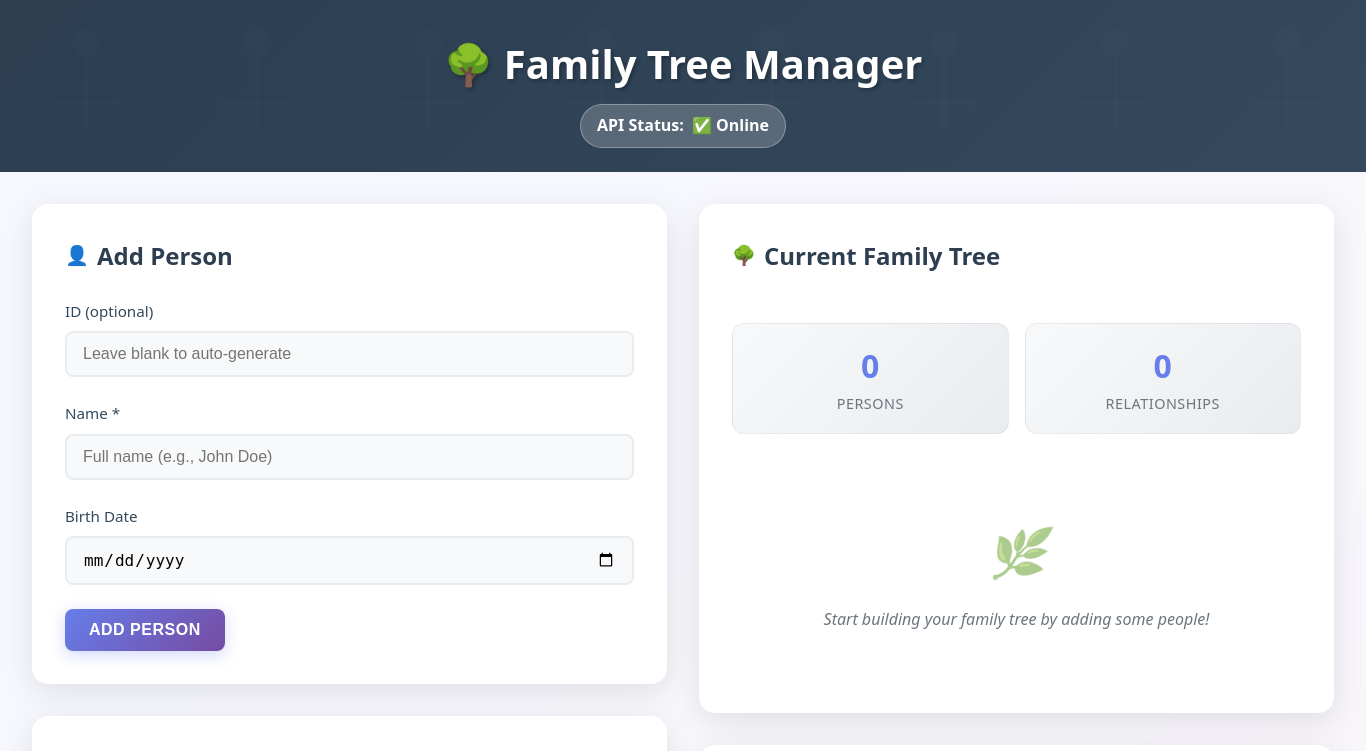
Test: App › prevents adding duplicate person IDs
The image size is (1366, 751).
Expected: the text "✅ Online" is shown, [692,113,769,139]
# Add first person
Type "duplicate-id" into the field labelled "ID (optional)". click: (350, 354)
box: [65,331,634,377]
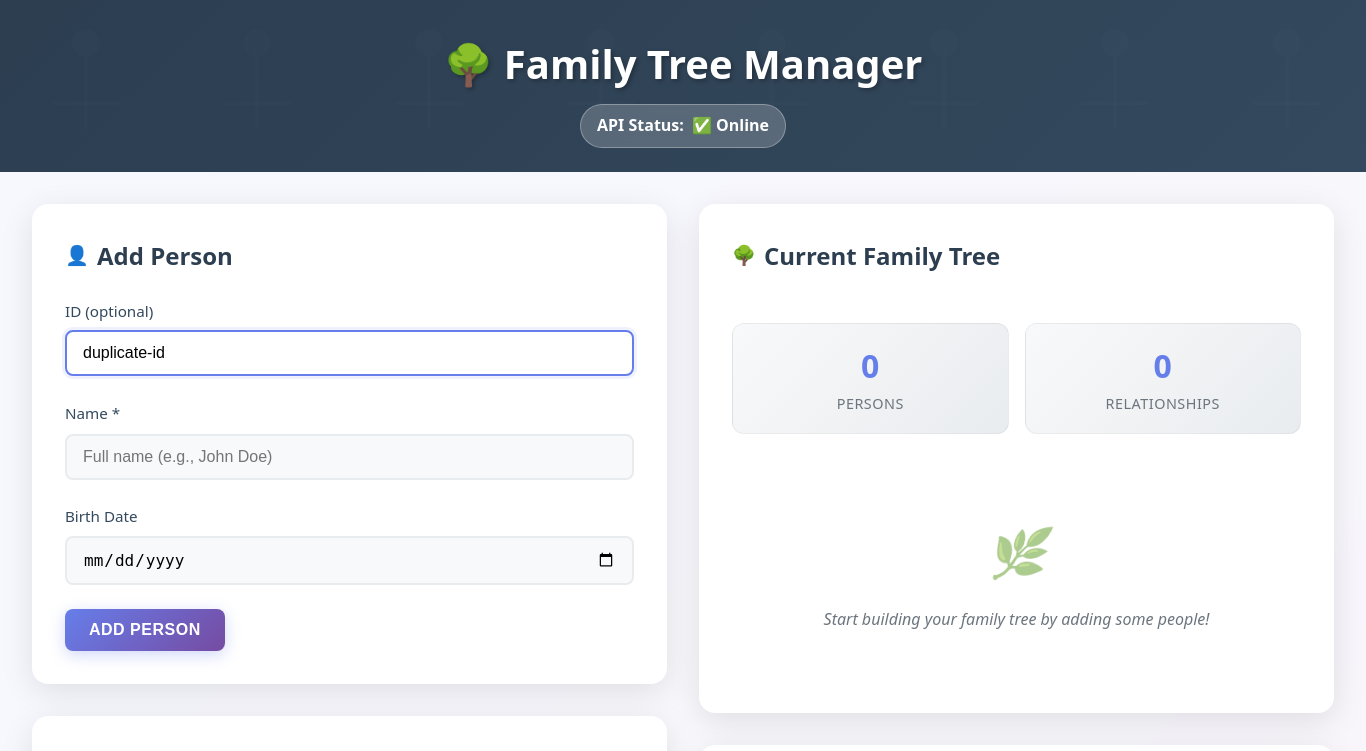
Type "First Person" into the field labelled "Name *". click: (350, 457)
box: [65,434,634,480]
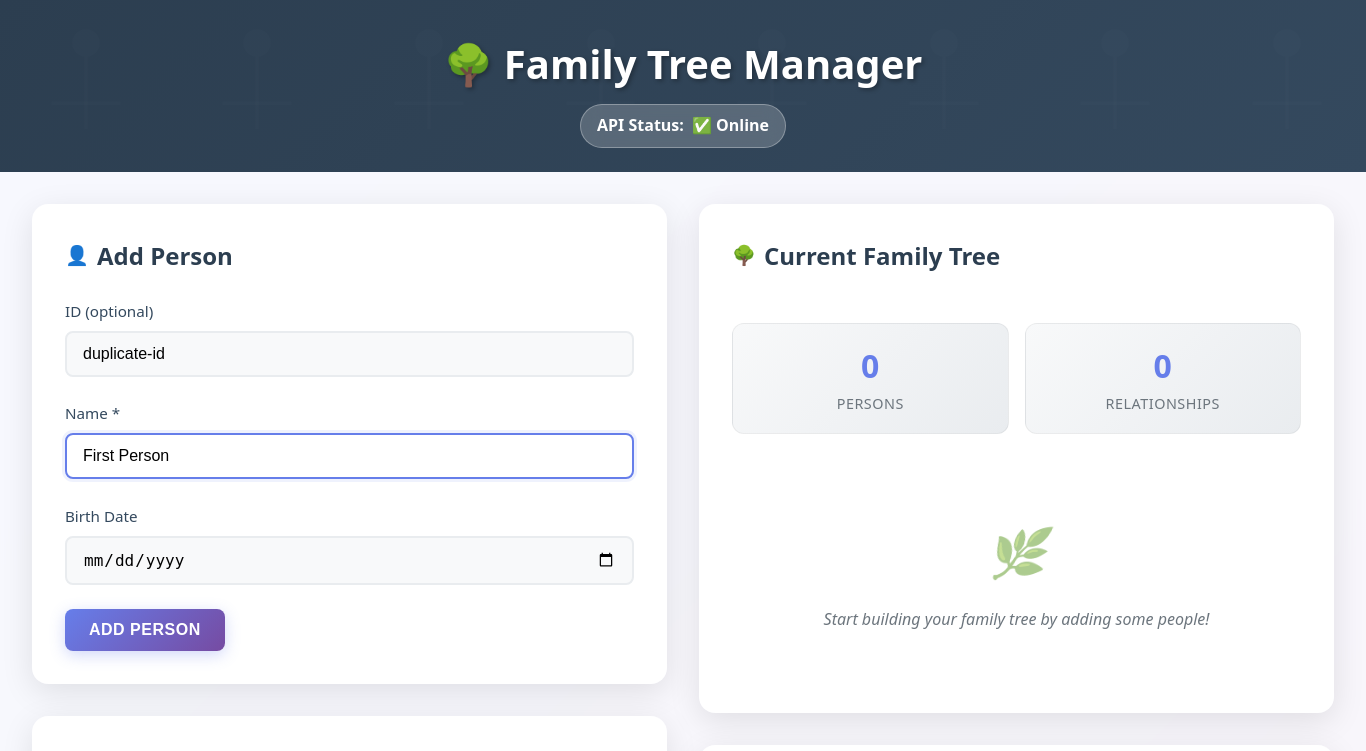
Click the button "Add Person". click: (145, 630)
box: [65,609,225,651]
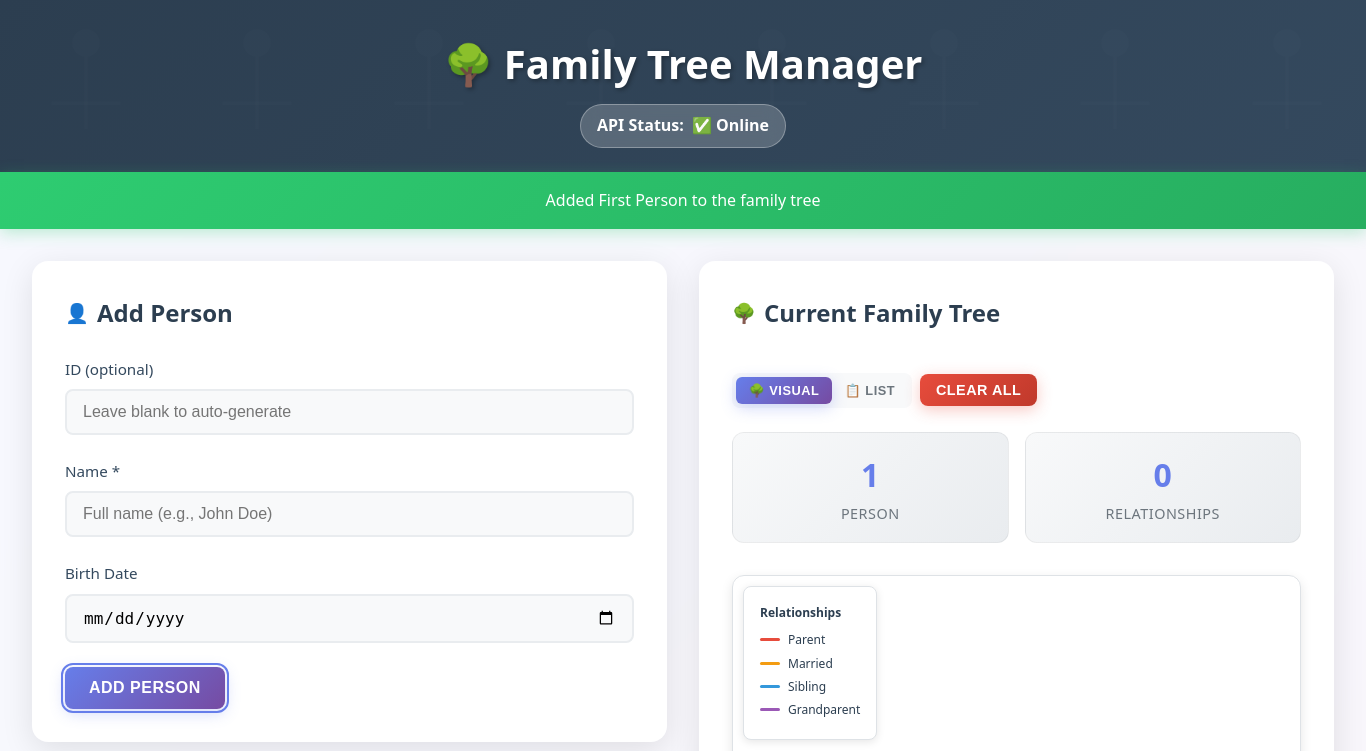
# Try to add person with same ID
Type "duplicate-id" into the field labelled "ID (optional)". click: (350, 412)
box: [65,389,634,435]
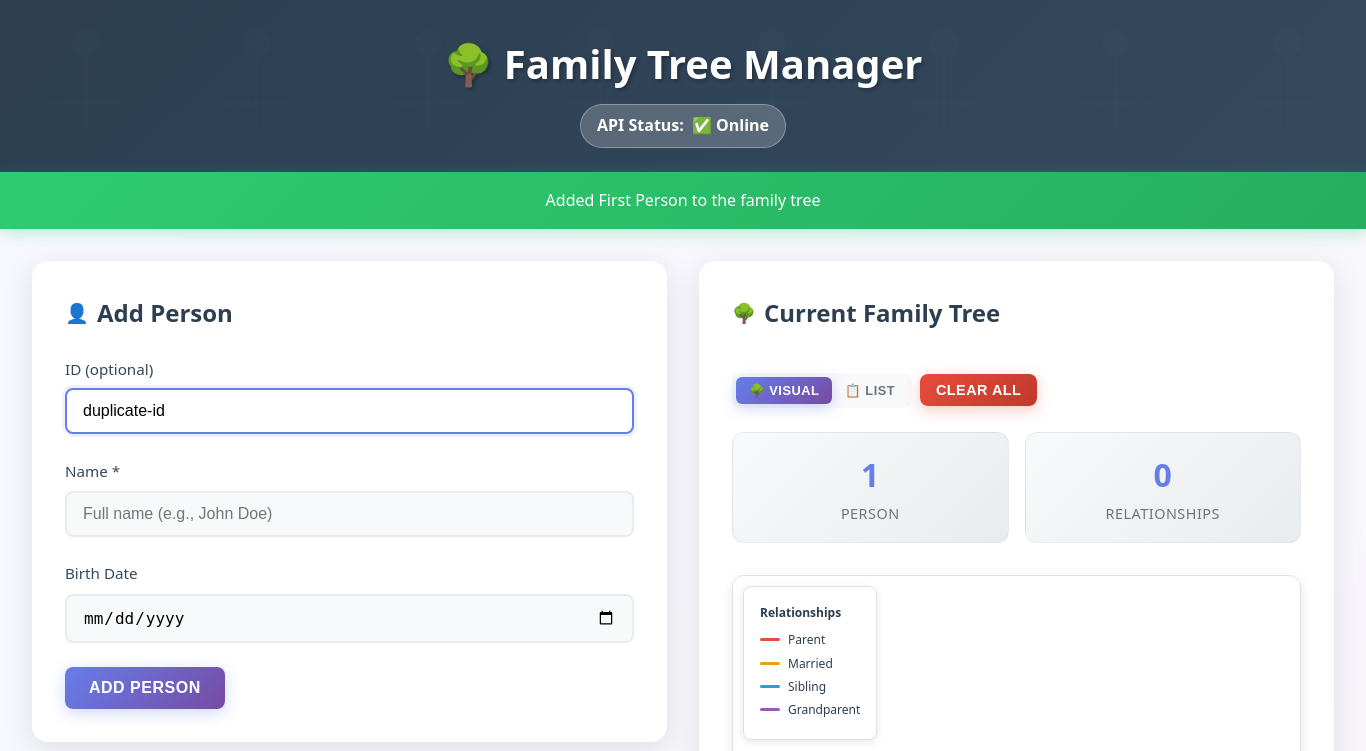
Type "Second Person" into the field labelled "Name *". click: (350, 514)
box: [65,491,634,537]
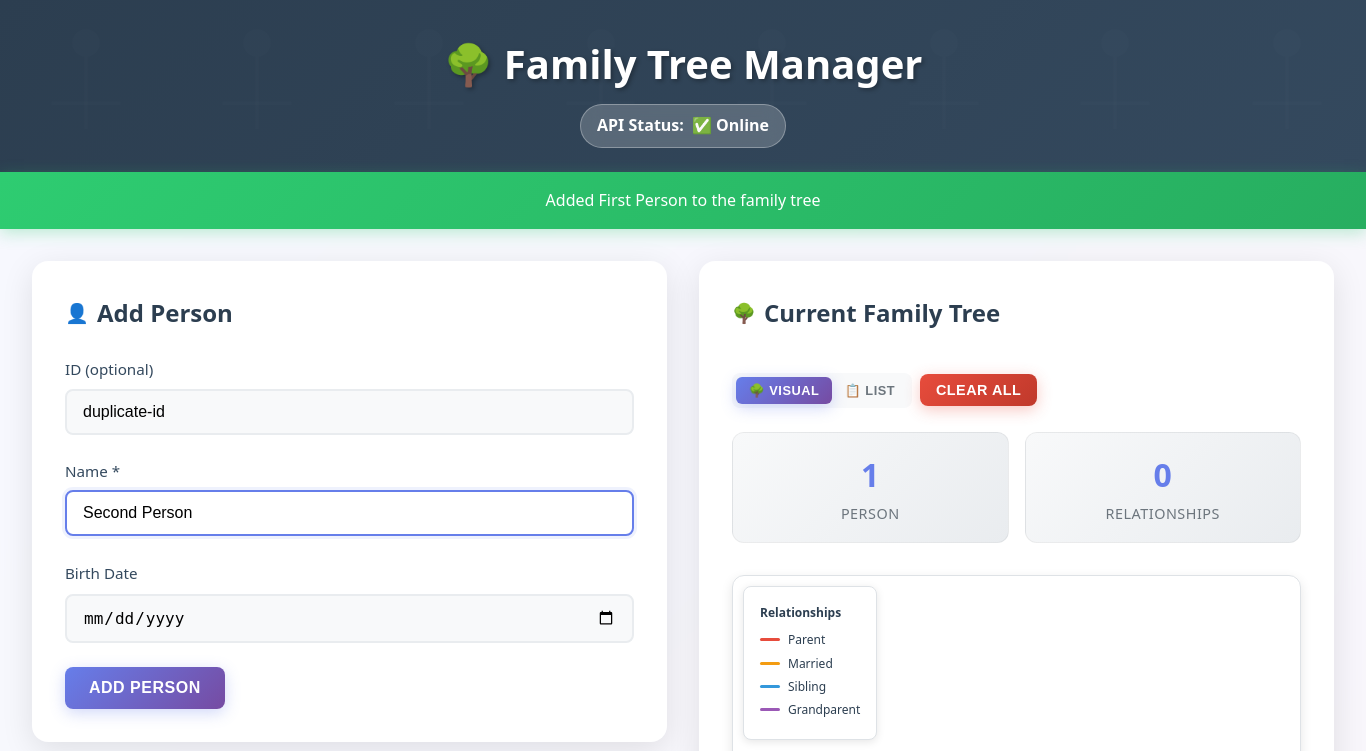
Click the button "Add Person". click: (145, 688)
box: [65,666,225,708]
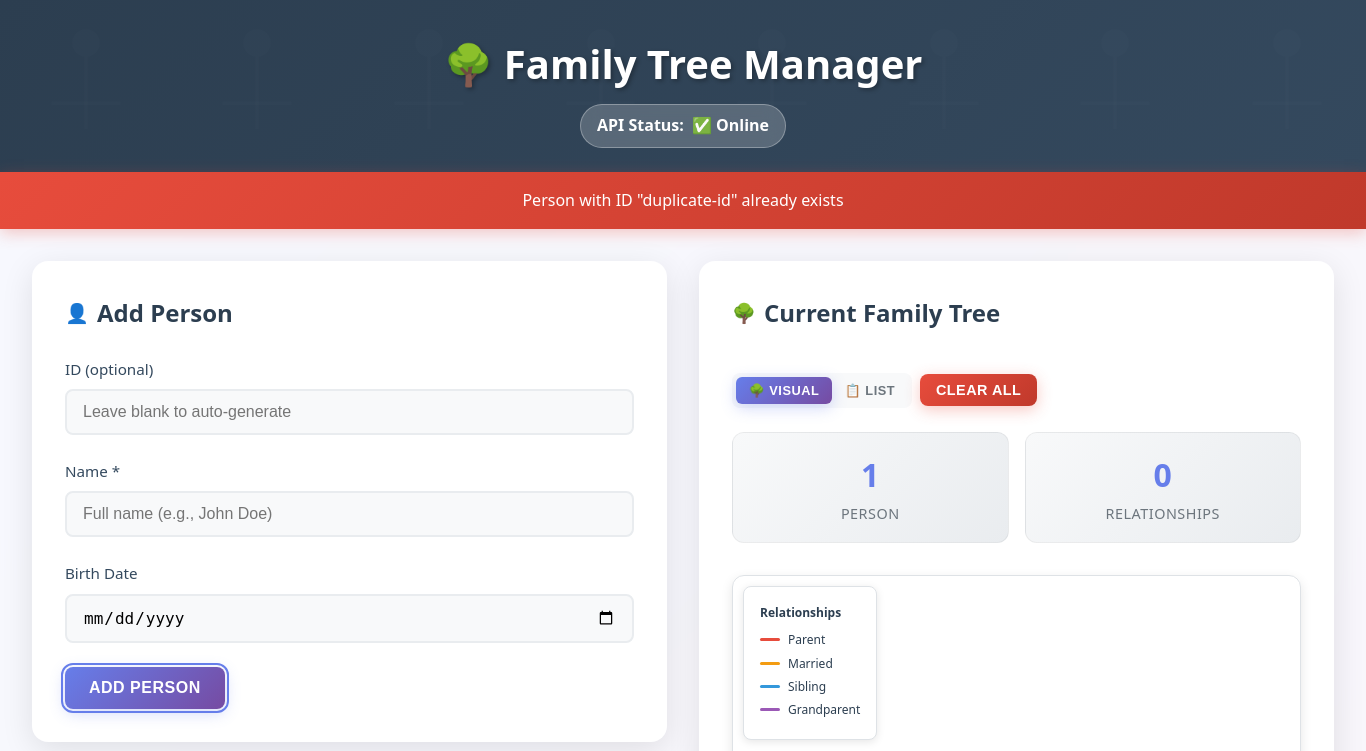
Expected: the text "1" is shown, [861,453,879,496]
Expected: the text "Person with ID \"duplicate-id\" already exists" is shown, [0,172,1365,229]
